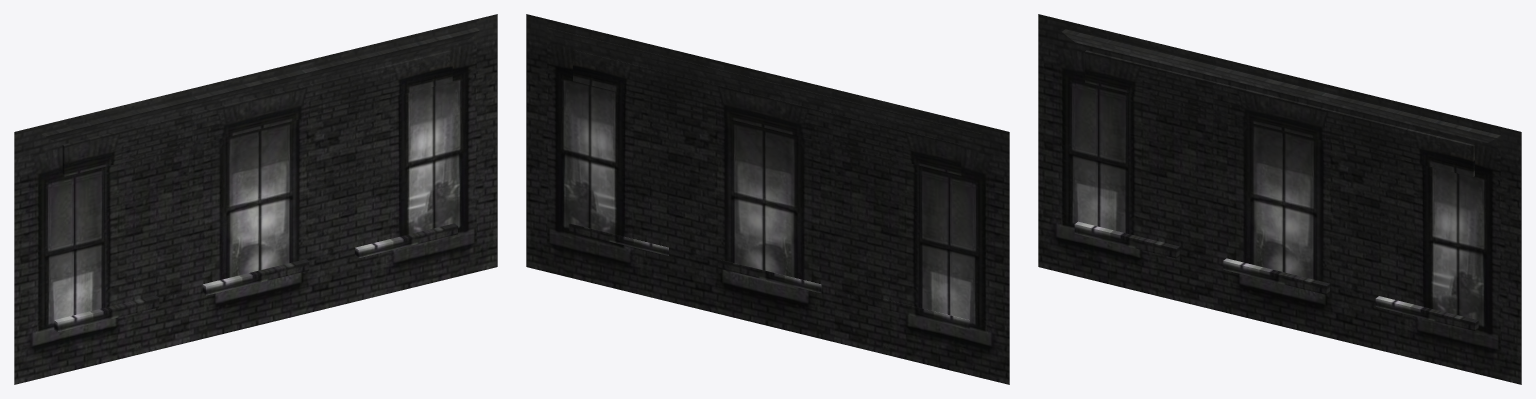
Rendered from floor.obj.
3 renders of one model, left to right at view 1: azimuth 30°, elevation 25°; view 2: azimuth 150°, elevation 25°; view 3: azimuth 330°, elevation 25°, orthographic.
Visible parts, largest first — view 1: group; view 2: group; view 3: group.
Part boxes in pixels (left/top/right/bottom): group: left=14, top=14, right=497, bottom=384; group: left=526, top=14, right=1009, bottom=384; group: left=1038, top=14, right=1521, bottom=384.
Bounding box in the file's own units: 10 × 5 × 0.142.
